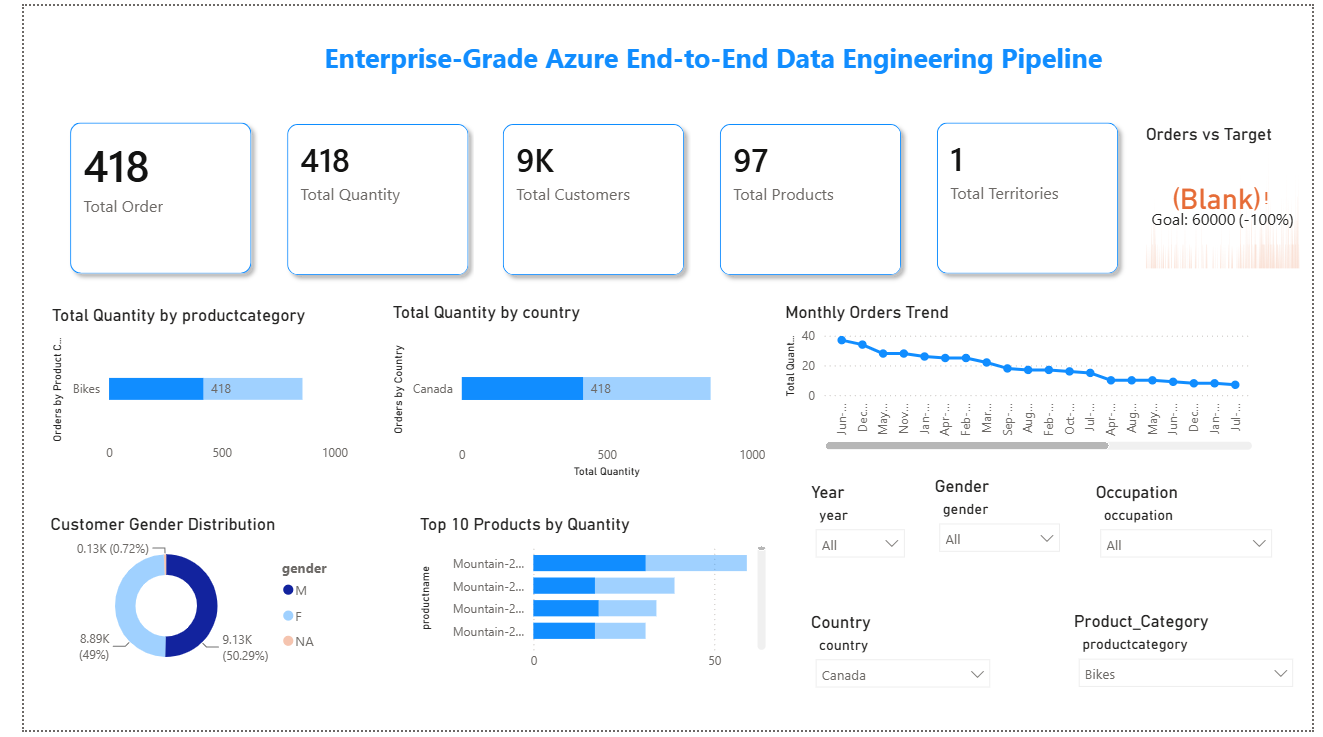

What the dashboard file says about the page in this screenshot:
{"tool":"powerbi","page":{"name":"Page 1","canvas":[1280,720],"ordinal":0},"visuals":[{"type":"cardVisual","title":"Total Orders","fields":{"Data":["vw_FactSales.Total Order"]},"box":[17,86.6,238.5,208.7],"z":0},{"type":"cardVisual","title":"Total Quantity","fields":{"Data":["vw_FactSales.Total Quantity"]},"box":[232.3,88,238.5,208.7],"z":1000},{"type":"cardVisual","fields":{"Data":["vw_DimCustomer.Total Customers"]},"box":[447.6,88,238.5,208.7],"z":2000},{"type":"cardVisual","fields":{"Data":["vw_DimProduct.Total Products"]},"box":[662.9,88,238.5,208.7],"z":3000},{"type":"cardVisual","fields":{"Data":["vw_DimTerritory.Total Territories"]},"box":[878.3,86.6,238.5,208.7],"z":4000},{"type":"clusteredBarChart","fields":{"Category":["vw_DimProduct.productcategory"],"Y":["vw_FactSales.Total Quantity"]},"box":[22.7,296.7,303.8,164.7],"z":5000},{"type":"clusteredBarChart","fields":{"Category":["vw_DimTerritory.country"],"Y":["vw_FactSales.Total Quantity"]},"box":[361.4,294.3,380,178.6],"z":6000},{"type":"lineChart","title":" Monthly Orders Trend","fields":{"Category":["vw_DimCalendar.monthyear"],"Y":["vw_FactSales.Total Quantity"]},"box":[751.5,294.5,473.9,151.8],"z":7000},{"type":"donutChart","title":"Customer Gender Distribution","fields":{"Category":["vw_DimCustomer.gender"],"Y":["CountNonNull(vw_DimCustomer.customerkey)"]},"box":[21.9,504,304,164],"z":8000},{"type":"clusteredBarChart","title":"Top 10 Products by Quantity","fields":{"Category":["vw_DimProduct.productname"],"Y":["vw_FactSales.Total Quantity"]},"box":[388.3,504.4,353.5,164.7],"z":9000},{"type":"slicer","title":"Year","fields":{"Values":["vw_DimCalendar.year"]},"box":[776.6,472.8,107.9,113.6],"z":10000},{"type":"slicer","title":"Country","fields":{"Values":["vw_DimTerritory.country"]},"box":[776.6,597.7,193.1,103.6],"z":11000},{"type":"slicer","title":"Product_Category","fields":{"Values":["vw_DimProduct.productcategory"]},"box":[1039.3,602,232.8,88],"z":12000},{"type":"slicer","title":"Gender","fields":{"Values":["vw_DimCustomer.gender"]},"box":[900.1,467.1,139.1,119.3],"z":13000},{"type":"slicer","title":"Occupation","fields":{"Values":["vw_DimCustomer.occupation"]},"box":[1060.6,472.8,190.2,124.9],"z":14000},{"type":"textbox","box":[215,29.3,941.3,70],"z":15000},{"type":"kpi","title":"Orders vs Target","fields":{"Indicator":["vw_FactSales.Total Orders"],"TrendLine":["vw_DimCalendar.date"],"Goal":["vw_FactSales.Orders Target"]},"box":[1110.4,116.6,162.6,148.8],"z":16000}]}

Visuals, with their boxes in screenshot pixels (x1, y1, x2, y2), scaled from the page's 1280x720 canvas onto the 1323x737 screenshot:
"Total Orders" cardVisual: BBox(18, 89, 264, 302)
"Total Quantity" cardVisual: BBox(240, 90, 487, 304)
cardVisual - vw_DimCustomer.Total Customers: BBox(463, 90, 709, 304)
cardVisual - vw_DimProduct.Total Products: BBox(685, 90, 932, 304)
cardVisual - vw_DimTerritory.Total Territories: BBox(908, 89, 1154, 302)
clusteredBarChart - vw_DimProduct.productcategory x vw_FactSales.Total Quantity: BBox(23, 304, 337, 472)
clusteredBarChart - vw_DimTerritory.country x vw_FactSales.Total Quantity: BBox(374, 301, 766, 484)
" Monthly Orders Trend" lineChart: BBox(777, 301, 1267, 457)
"Customer Gender Distribution" donutChart: BBox(23, 516, 337, 684)
"Top 10 Products by Quantity" clusteredBarChart: BBox(401, 516, 767, 685)
"Year" slicer: BBox(803, 484, 914, 600)
"Country" slicer: BBox(803, 612, 1002, 718)
"Product_Category" slicer: BBox(1074, 616, 1315, 706)
"Gender" slicer: BBox(930, 478, 1074, 600)
"Occupation" slicer: BBox(1096, 484, 1293, 612)
textbox: BBox(222, 30, 1195, 102)
"Orders vs Target" kpi: BBox(1148, 119, 1316, 272)
